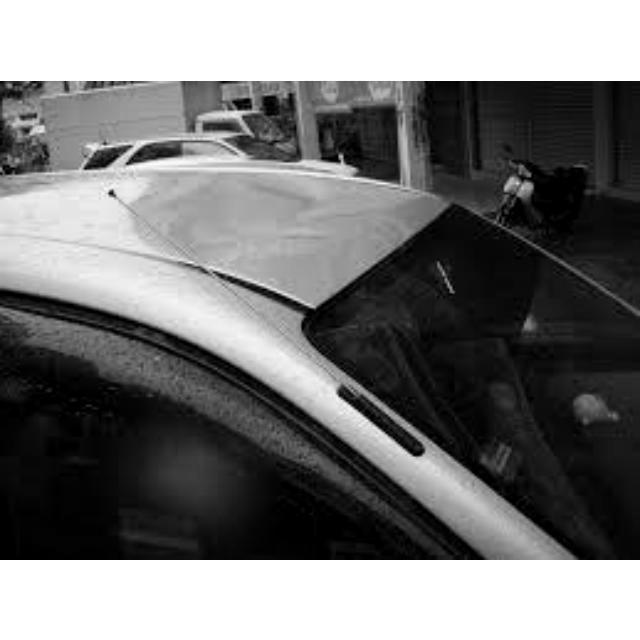roof-dent: (1, 139, 418, 319)
